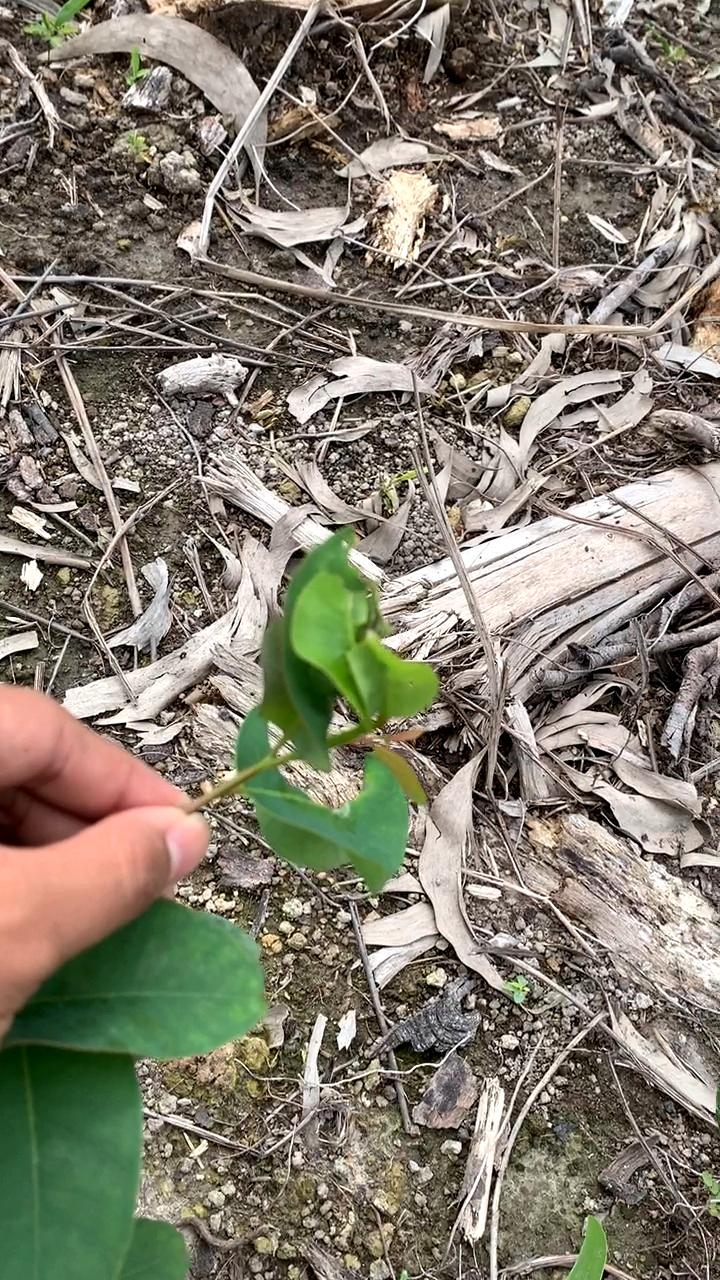Leaf Roller - Leaf: (241, 493, 453, 776)
